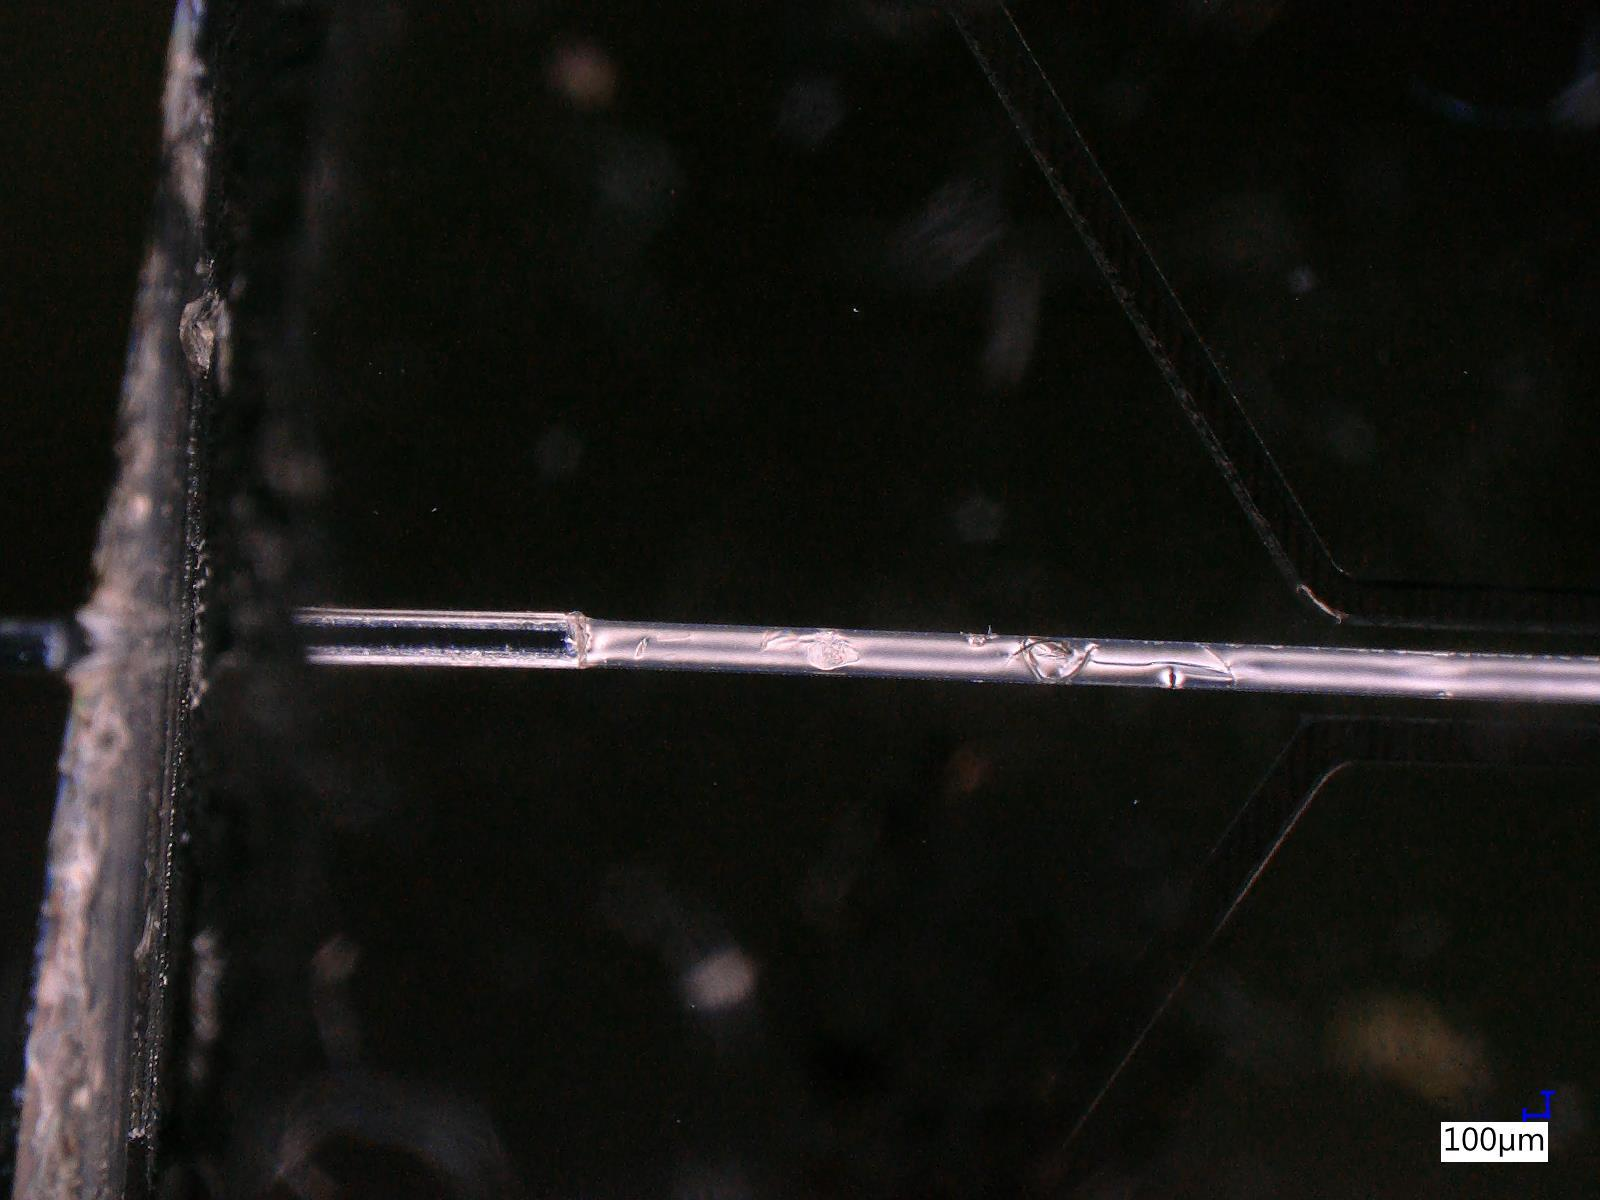sediment: (804, 637, 860, 669)
